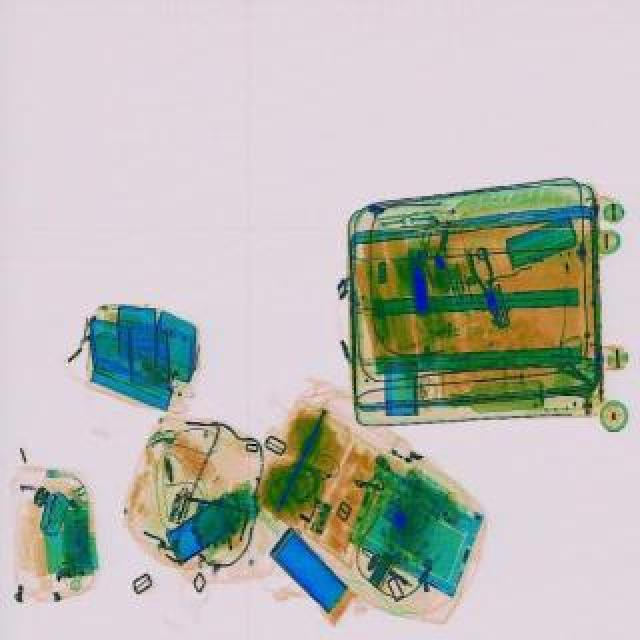wrench: (464, 244, 506, 320)
